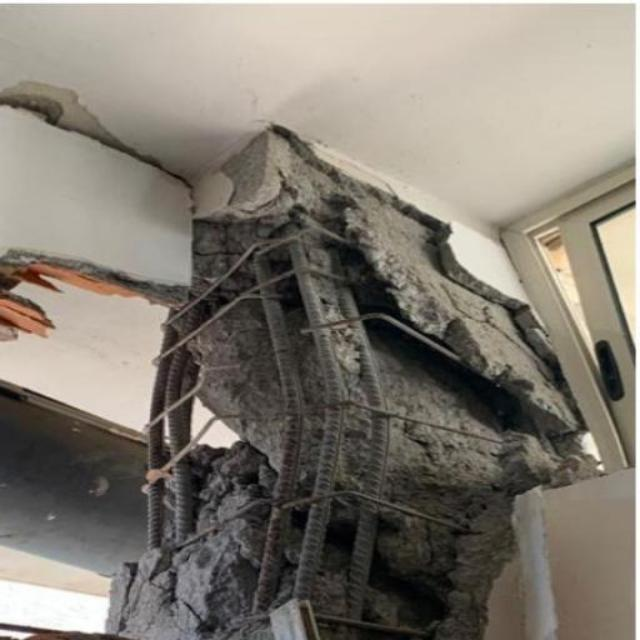D0w0: (109, 125, 604, 633)
